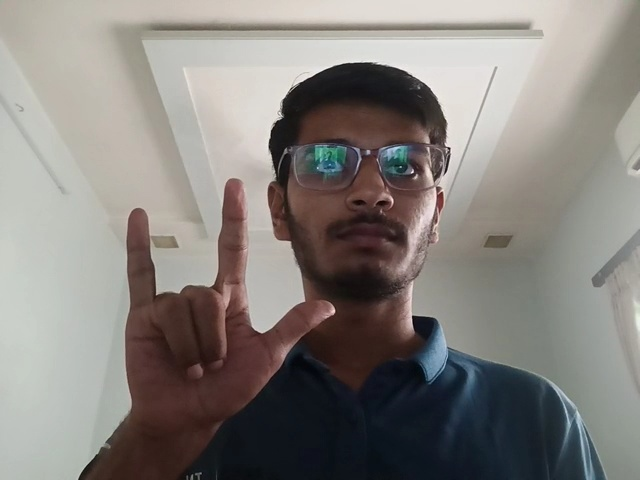I Love You: (116, 174, 338, 434)
